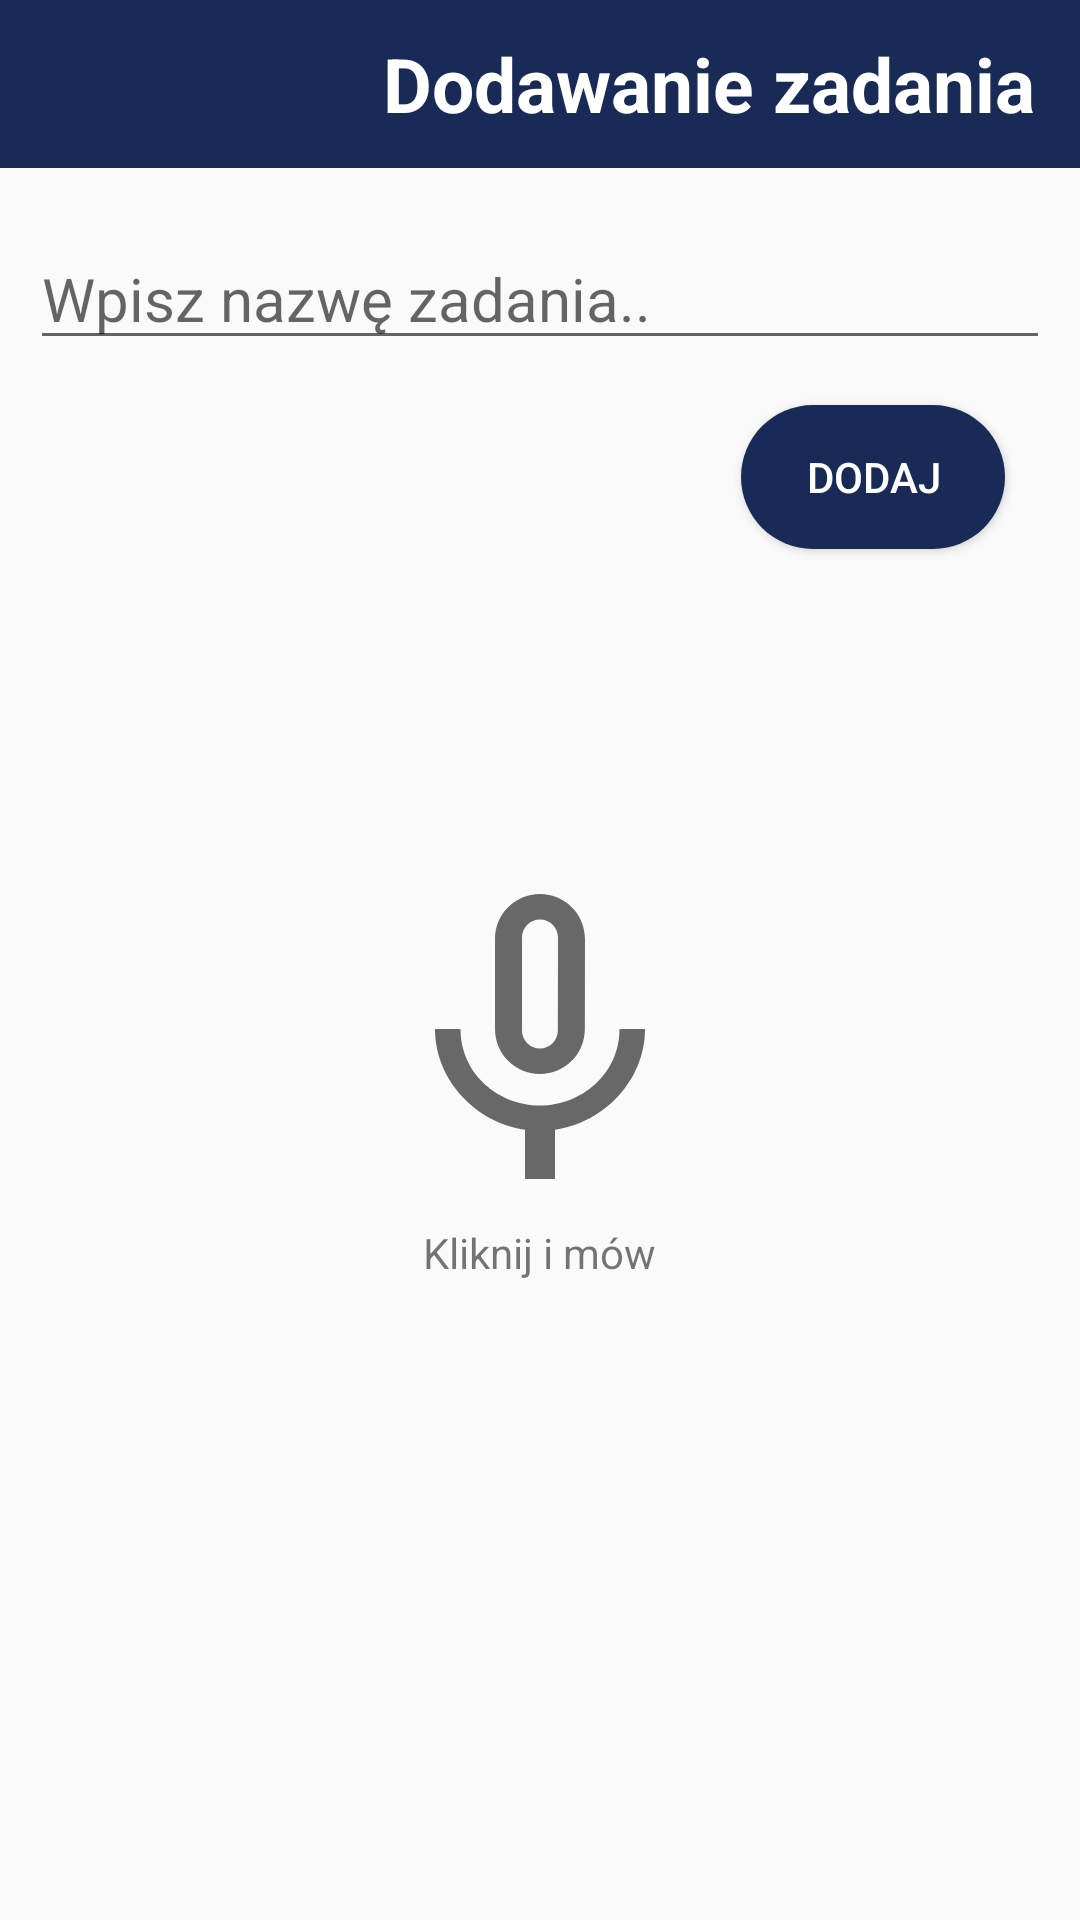

Where icons sit on this 1080x1920 app screen, as {"x1": x1, "y1": y1, "x2": x2, "y2": y2}:
mic none: {"x1": 435, "y1": 894, "x2": 645, "y2": 1179}
